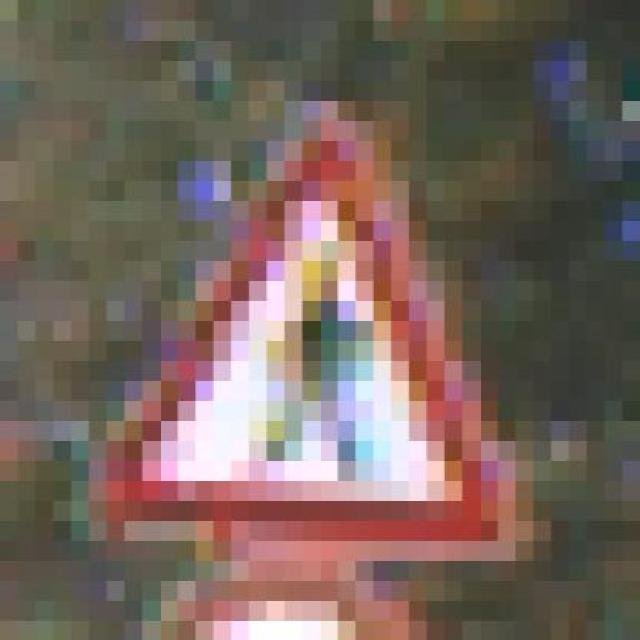Pedestrian Crossing: (106, 60, 534, 560)
